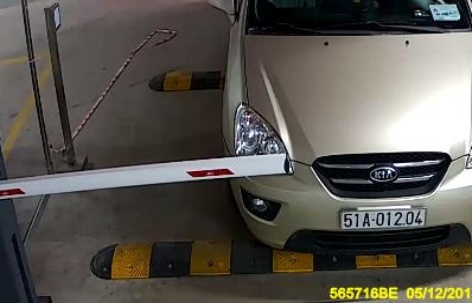plate: (339, 204, 430, 230)
